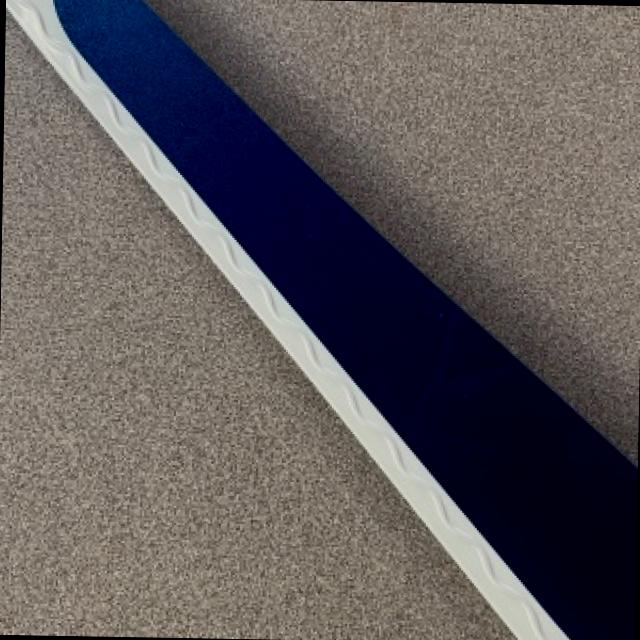healthy: (0, 18, 514, 640)
